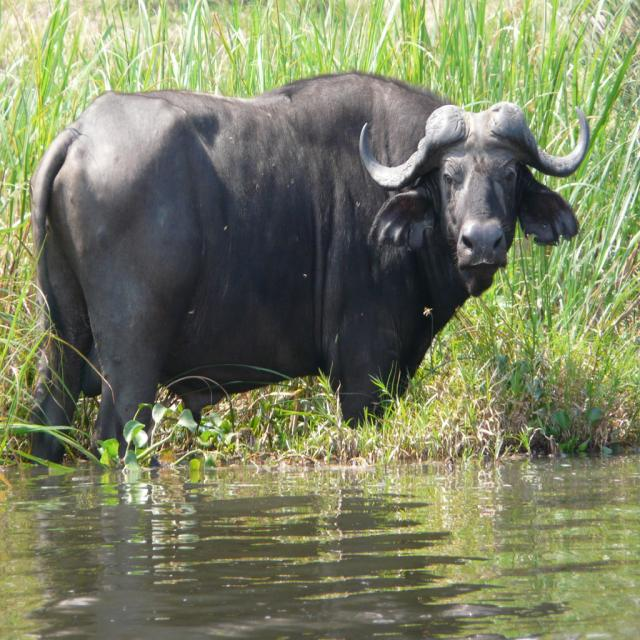Bull: (23, 64, 590, 469)
